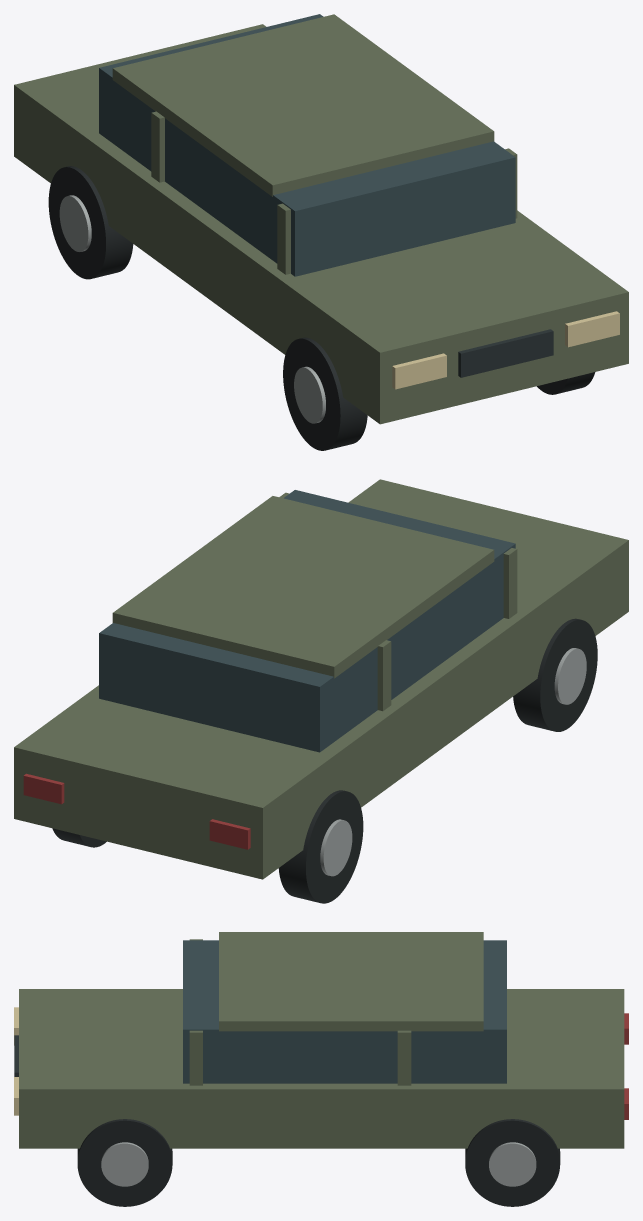
The model's file is abandoned_olive_wagon.glb.
3 views of the same model, one above another, from view 1: azimuth 30°, elevation 25°; view 2: azimuth 150°, elevation 25°; view 3: azimuth 270°, elevation 25° (orthographic). The views are drawn at different scales.
Visible parts, largest first — view 1: Low body.001, Roof.001, Window band.001, Tire.006, Tire.004, Grille.001, Hub.006, Hub.004, Headlight.003, Headlight.002, Window pillar.004, Window pillar.005 (+1 smaller); view 2: Low body.001, Roof.001, Window band.001, Tire.004, Tire.006, Hub.006, Hub.004, Window pillar.004, Window pillar.005, Tail light.002, Tail light.003; view 3: Low body.001, Roof.001, Window band.001, Tire.005, Tire.007, Hub.005, Hub.007, Window pillar.007, Window pillar.006.
Boxes of the visible parts, bbox=[...] form: Low body.001: bbox=[14, 24, 628, 424]; Roof.001: bbox=[112, 14, 494, 196]; Window band.001: bbox=[99, 14, 515, 276]; Tire.006: bbox=[48, 166, 133, 279]; Tire.004: bbox=[283, 337, 367, 450]; Grille.001: bbox=[458, 329, 553, 377]; Hub.006: bbox=[59, 195, 91, 251]; Hub.004: bbox=[294, 366, 325, 423]; Headlight.003: bbox=[565, 311, 619, 347]; Headlight.002: bbox=[392, 353, 446, 389]; Window pillar.004: bbox=[277, 203, 290, 274]; Window pillar.005: bbox=[151, 111, 164, 182]; Low body.001: bbox=[14, 479, 628, 879]; Roof.001: bbox=[112, 496, 494, 678]; Window band.001: bbox=[99, 490, 515, 752]; Tire.004: bbox=[513, 618, 597, 731]; Tire.006: bbox=[278, 790, 363, 903]; Hub.006: bbox=[320, 819, 352, 876]; Hub.004: bbox=[554, 648, 586, 704]; Window pillar.004: bbox=[503, 548, 517, 618]; Window pillar.005: bbox=[377, 640, 391, 711]; Tail light.002: bbox=[209, 819, 250, 849]; Tail light.003: bbox=[23, 773, 64, 804]; Low body.001: bbox=[19, 989, 624, 1148]; Roof.001: bbox=[219, 932, 483, 1031]; Window band.001: bbox=[183, 940, 506, 1083]; Tire.005: bbox=[77, 1119, 172, 1206]; Tire.007: bbox=[465, 1119, 560, 1206]; Hub.005: bbox=[101, 1142, 148, 1186]; Hub.007: bbox=[489, 1142, 536, 1186]; Window pillar.007: bbox=[397, 1030, 411, 1085]; Window pillar.006: bbox=[189, 1030, 202, 1085].
Size of the model in its own units: 1.78 by 1.39 by 4.35.
